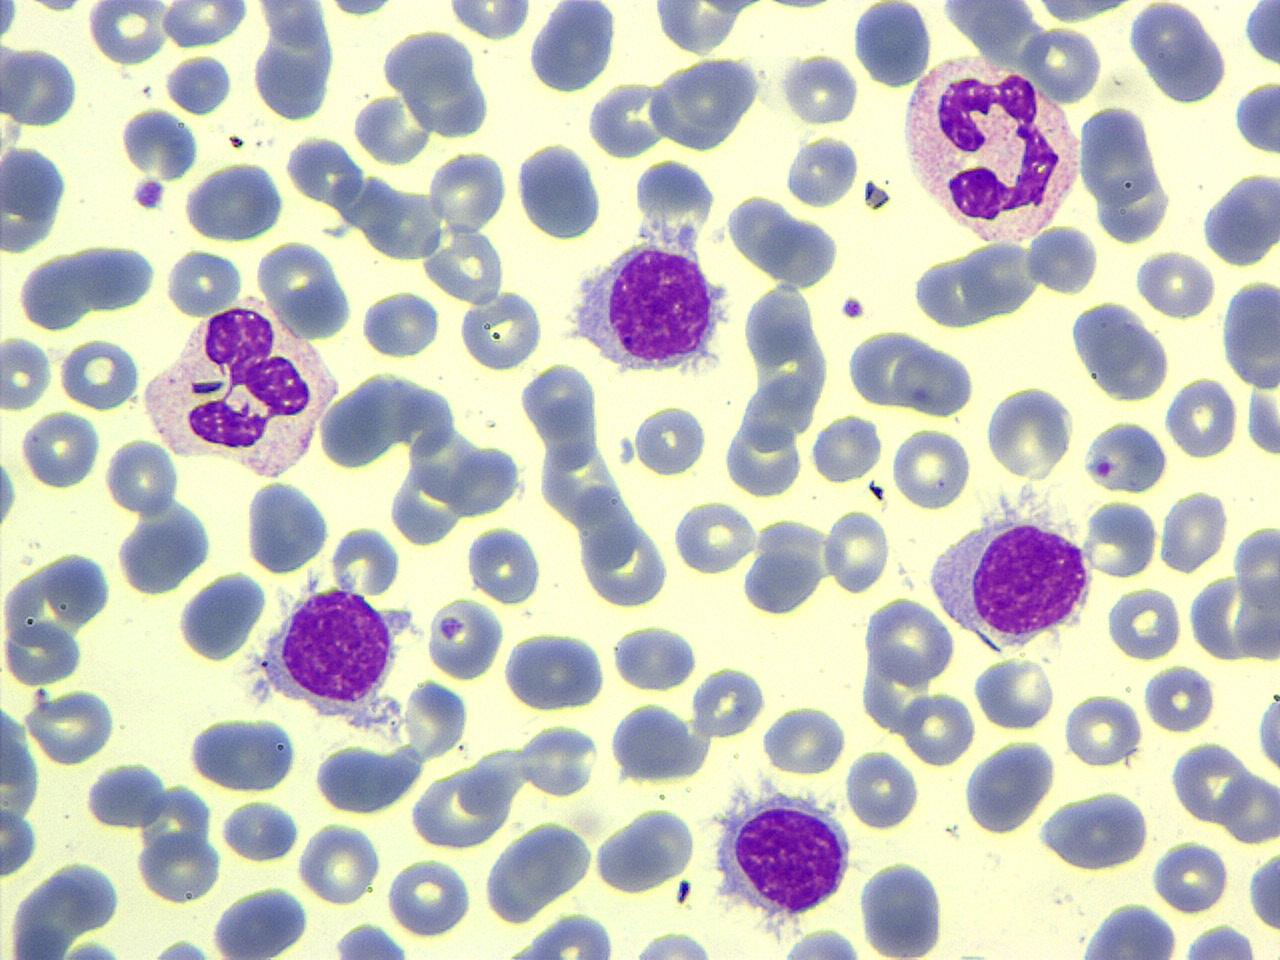Platelets: (1081, 418, 1169, 494), (611, 620, 698, 694), (782, 133, 862, 210), (1232, 76, 1280, 158), (329, 922, 412, 960), (0, 446, 20, 534), (61, 938, 127, 960), (129, 175, 168, 212), (150, 938, 211, 960), (837, 293, 866, 322)
RBC: (645, 53, 767, 154), (250, 8, 338, 125), (604, 698, 714, 788), (514, 138, 606, 243), (1041, 787, 1155, 870), (1077, 100, 1163, 210), (855, 857, 948, 957), (242, 477, 332, 577), (185, 716, 300, 794), (578, 514, 670, 611), (984, 382, 1075, 480), (500, 629, 608, 711), (864, 595, 956, 688), (309, 740, 418, 816), (384, 856, 476, 939), (22, 686, 117, 766), (1, 694, 44, 868), (850, 1, 934, 89), (456, 288, 544, 372), (297, 820, 380, 907), (426, 147, 508, 234), (891, 424, 972, 512), (1218, 274, 1280, 388), (422, 222, 506, 306), (1080, 418, 1170, 496), (1021, 23, 1105, 106), (722, 415, 804, 500), (18, 406, 100, 491), (464, 520, 543, 607), (427, 594, 505, 682), (67, 243, 160, 315), (844, 745, 920, 833), (670, 497, 754, 576), (1165, 373, 1239, 462), (610, 620, 700, 693), (135, 827, 219, 905), (1158, 485, 1230, 576), (1, 44, 78, 129), (57, 335, 142, 412), (974, 654, 1056, 733), (1069, 902, 1183, 958), (1084, 496, 1160, 580), (760, 702, 846, 776), (822, 506, 892, 596), (1150, 836, 1230, 914), (1103, 584, 1183, 662), (781, 132, 860, 210), (118, 104, 199, 180), (778, 52, 858, 128), (894, 342, 974, 418), (1, 616, 85, 688), (104, 436, 179, 516), (358, 288, 441, 360), (633, 402, 709, 480), (1063, 692, 1143, 766), (1134, 248, 1214, 322), (400, 676, 470, 760), (1025, 221, 1103, 296), (83, 762, 169, 830), (42, 548, 114, 628), (218, 797, 303, 864), (329, 520, 402, 598), (164, 246, 244, 317), (690, 664, 764, 740), (902, 690, 974, 767), (1141, 662, 1215, 736), (808, 412, 884, 484), (88, 0, 170, 65), (651, 1, 746, 57), (164, 52, 236, 115), (0, 331, 55, 411), (159, 0, 248, 49), (1232, 77, 1280, 158), (444, 0, 535, 41), (1025, 0, 1147, 29), (1244, 365, 1280, 460), (774, 925, 868, 960), (627, 927, 723, 960), (1178, 922, 1260, 960), (1246, 844, 1280, 932), (0, 807, 40, 878), (1253, 683, 1280, 775)
WBC: (139, 301, 341, 482), (898, 51, 1084, 246), (924, 500, 1098, 656), (566, 220, 732, 381), (254, 584, 408, 720), (708, 782, 856, 920), (910, 236, 1046, 334), (380, 26, 499, 134), (648, 54, 768, 156), (1126, 1, 1232, 107), (1069, 296, 1173, 404), (112, 498, 220, 596), (1036, 787, 1154, 873), (250, 13, 340, 123), (961, 735, 1058, 837), (185, 710, 300, 796), (514, 136, 604, 244), (242, 475, 334, 578), (526, 0, 622, 97), (502, 628, 610, 714), (181, 158, 288, 244), (175, 567, 269, 664), (609, 698, 712, 785), (1198, 164, 1280, 271), (1, 682, 44, 880), (0, 141, 73, 255), (314, 740, 427, 813), (209, 884, 312, 958), (851, 0, 933, 92), (1081, 415, 1169, 498), (1219, 274, 1280, 388), (68, 240, 159, 315), (16, 251, 95, 334), (1069, 903, 1183, 959), (219, 794, 300, 866), (42, 549, 113, 629), (1230, 76, 1280, 160), (329, 920, 412, 960), (1246, 844, 1280, 934), (1242, 0, 1280, 71), (1254, 679, 1280, 779)
